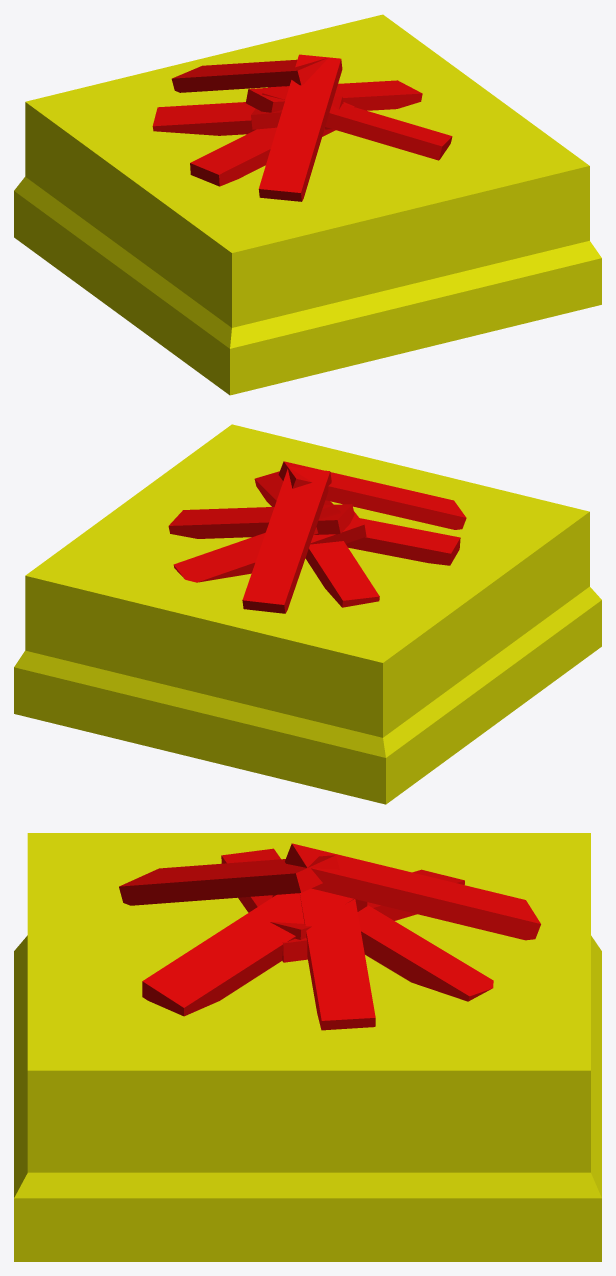
Rendered from Mini_Fireplace.fbx.
3 renders of one model, top to bottom at view 1: azimuth 30°, elevation 25°; view 2: azimuth 150°, elevation 25°; view 3: azimuth 270°, elevation 25°, orthographic. The views are drawn at different scales.
Visible parts, largest first — view 1: pCube97; view 2: pCube97; view 3: pCube97.
Part boxes in pixels (x1,y1,x2,y2): pCube97: (14,14,601,395); pCube97: (14,424,601,804); pCube97: (14,833,601,1261).
Size of the model in its own units: 5.96 by 3.2 by 5.99.
